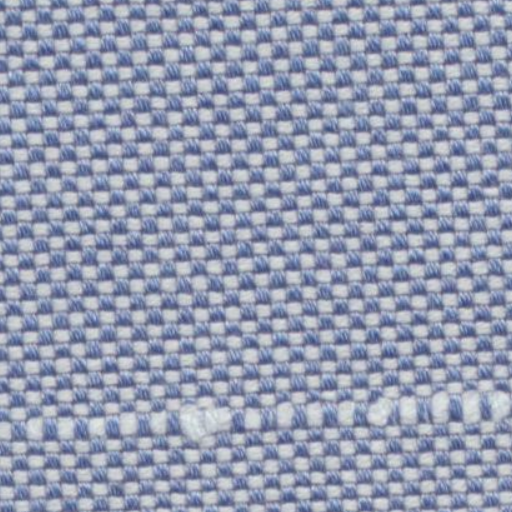DaiSha: (14, 379, 504, 442)
